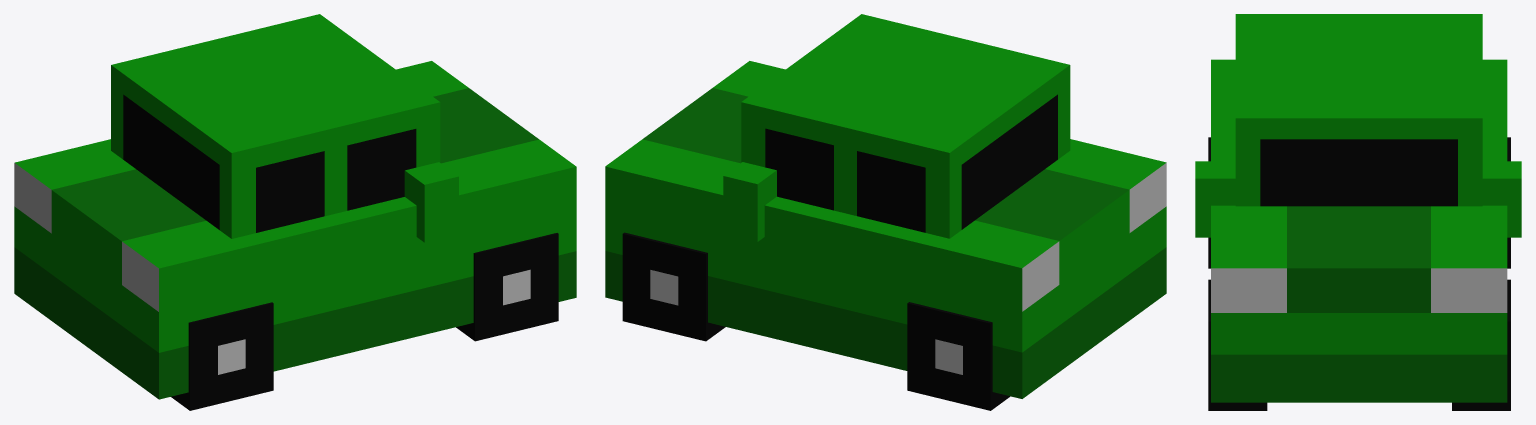
File: CarGreen.fbx
3 renders of one model, left to right at view 1: azimuth 30°, elevation 25°; view 2: azimuth 150°, elevation 25°; view 3: azimuth 270°, elevation 25°, orthographic. The views are drawn at different scales.
Visible parts, largest first — view 1: Car:pCube18; view 2: Car:pCube18; view 3: Car:pCube18.
Part boxes in pixels (box(x1,y1,x2,y2)): Car:pCube18: box(14, 14, 576, 410); Car:pCube18: box(605, 14, 1166, 410); Car:pCube18: box(1195, 14, 1521, 410).
Size of the model in its own units: 0.7492 by 0.4023 by 0.4955.
